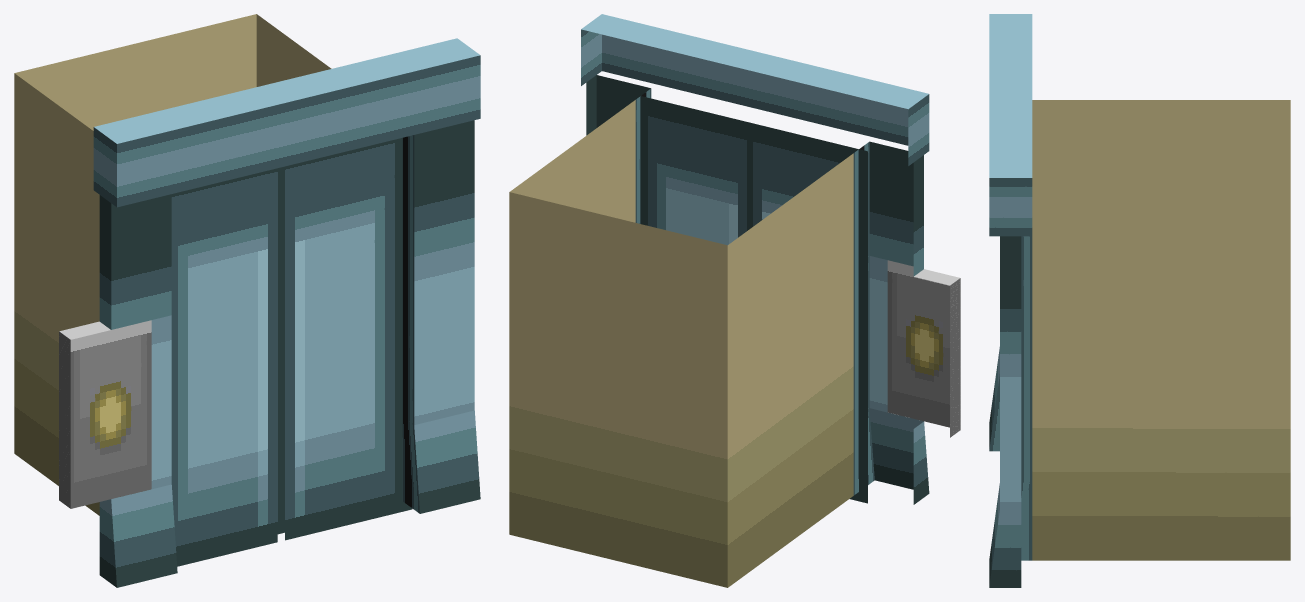
3 views of the same model, side by side, from view 1: azimuth 30°, elevation 25°; view 2: azimuth 150°, elevation 25°; view 3: azimuth 270°, elevation 25° (orthographic). The views are drawn at different scales.
Parts seen in each view (by area): view 1: polygon0, polygon2, polygon1; view 2: polygon1, polygon0, polygon2; view 3: polygon1, polygon0.
Part boxes in pixels (x1,y1,x2,y2): polygon0: (59, 38, 480, 587); polygon2: (171, 138, 412, 566); polygon1: (14, 14, 331, 515); polygon1: (509, 100, 853, 587); polygon0: (581, 14, 960, 504); polygon2: (631, 94, 867, 503); polygon1: (1032, 100, 1290, 560); polygon0: (989, 14, 1032, 587).
Bounding box in the file's own units: 5 × 5.38 × 3.5.
Materials: 3 (3 with a texture image).
